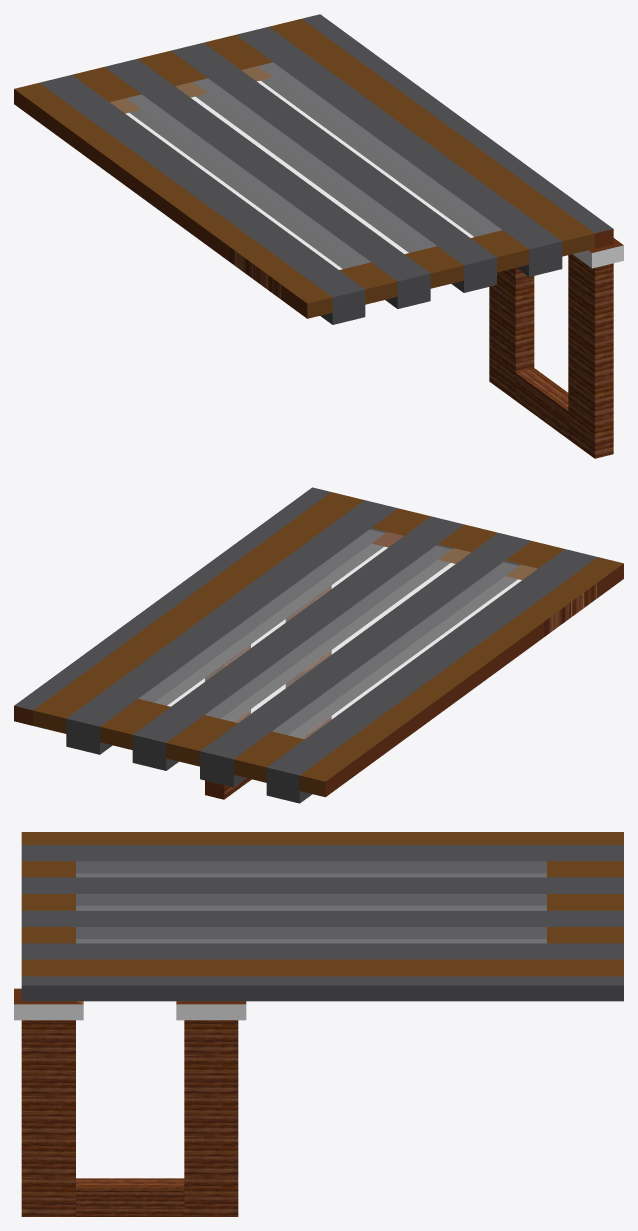
File: garage.glb
3 renders of one model, top to bottom at view 1: azimuth 30°, elevation 25°; view 2: azimuth 150°, elevation 25°; view 3: azimuth 270°, elevation 25°, orthographic. The views are drawn at different scales.
Visible parts, largest first — view 1: Plano.001; view 2: Plano.001; view 3: Plano.001.
Part boxes in pixels (<box>): Plano.001: <box>14,14,623,458</box>; Plano.001: <box>14,487,623,803</box>; Plano.001: <box>14,832,623,1216</box>.
Size of the model in its own units: 4.4 by 3.03 by 7.24.
5 materials, 1 textured.
